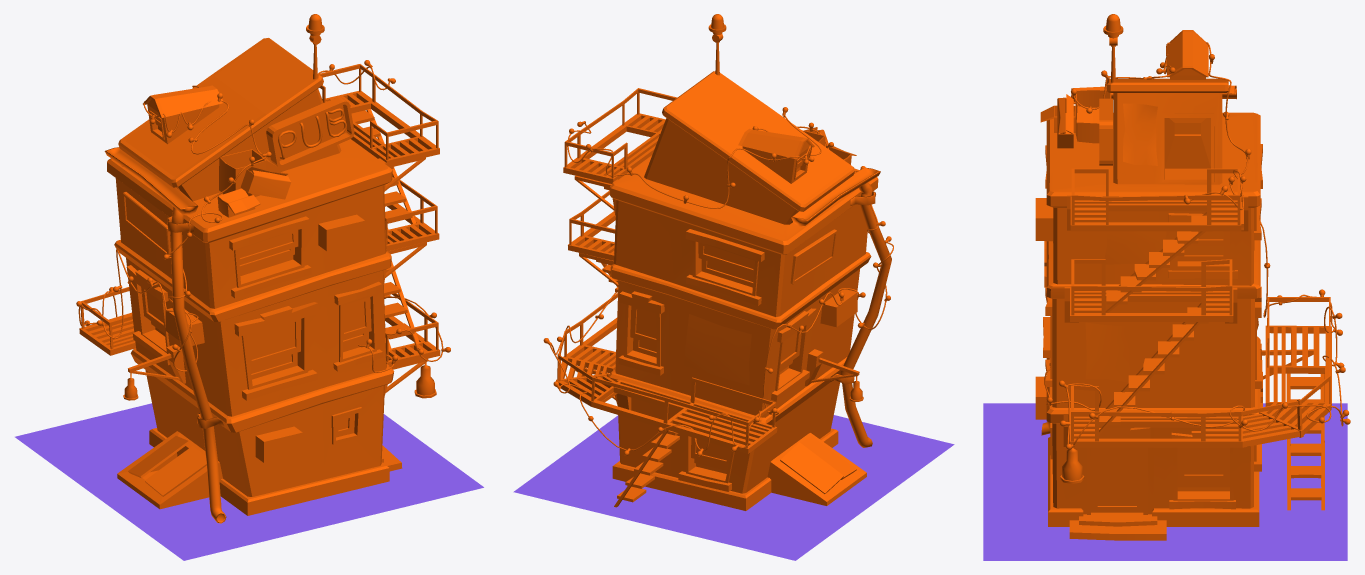
The picture shows the model from 3 angles, left to right: view 1: azimuth 30°, elevation 25°; view 2: azimuth 150°, elevation 25°; view 3: azimuth 270°, elevation 25°; orthographic projection. The views are drawn at different scales.
Parts seen in each view (by area): view 1: building_low, pCube1_low, pipe_low, fundament_low, lightbox_low, stairs_04_low, roof_low, lights_low, ground_low, stairs_01_low, window_upper_01_low, pipe_up_low (+22 smaller); view 2: building_low, pCube1_low, stairs_01_low, paper_03_low, pipe_low, stairs_04_low, fundament_low, lights_low, roof_low, ground_low, stairs_02_low, door_01_low (+15 smaller); view 3: building_low, pCube1_low, stairs_01_low, stairs_04_low, stairs_03_low, window_upper_08_low, fundament_low, lights_low, stairs_02_low, paper_04_low, pub_door_low, menu_low (+21 smaller).
Part boxes in pixels (left/top/right/bottom): building_low: left=107, top=38, right=394, bottom=496; pCube1_low: left=15, top=403, right=483, bottom=560; pipe_low: left=170, top=207, right=226, bottom=523; fundament_low: left=149, top=428, right=389, bottom=515; lightbox_low: left=266, top=97, right=354, bottom=167; stairs_04_low: left=325, top=91, right=439, bottom=166; roof_low: left=143, top=85, right=223, bottom=144; lights_low: left=78, top=66, right=443, bottom=372; ground_low: left=117, top=431, right=222, bottom=509; stairs_01_low: left=79, top=312, right=440, bottom=366; window_upper_01_low: left=247, top=319, right=301, bottom=366; pipe_up_low: left=104, top=147, right=198, bottom=215; building_low: left=608, top=71, right=878, bottom=493; pCube1_low: left=513, top=415, right=954, bottom=560; stairs_01_low: left=557, top=317, right=777, bottom=453; paper_03_low: left=684, top=314, right=751, bottom=385; pipe_low: left=840, top=182, right=891, bottom=447; stairs_04_low: left=563, top=113, right=665, bottom=183; fundament_low: left=612, top=428, right=838, bottom=510; lights_low: left=549, top=114, right=893, bottom=451; roof_low: left=738, top=128, right=814, bottom=183; ground_low: left=767, top=433, right=866, bottom=505; stairs_02_low: left=558, top=293, right=775, bottom=447; door_01_low: left=780, top=442, right=843, bottom=493; building_low: left=1046, top=78, right=1260, bottom=514; pCube1_low: left=983, top=403, right=1347, bottom=560; stairs_01_low: left=1069, top=325, right=1331, bottom=447; stairs_04_low: left=1070, top=196, right=1241, bottom=231; stairs_03_low: left=1070, top=287, right=1233, bottom=321; window_upper_08_low: left=1091, top=447, right=1143, bottom=512; fundament_low: left=1048, top=437, right=1259, bottom=526; lights_low: left=1044, top=42, right=1343, bottom=449; stairs_02_low: left=1071, top=297, right=1330, bottom=441; paper_04_low: left=1085, top=322, right=1130, bottom=382; pub_door_low: left=1165, top=118, right=1210, bottom=168; menu_low: left=1123, top=103, right=1157, bottom=165.
Size of the model in its own units: 17.16 by 24.64 by 16.56.
